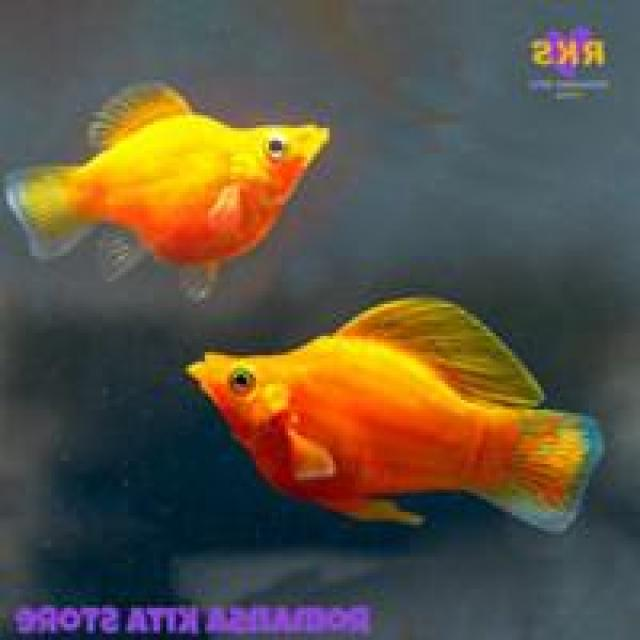PlatyFish: (179, 278, 624, 548), (0, 60, 342, 326)
